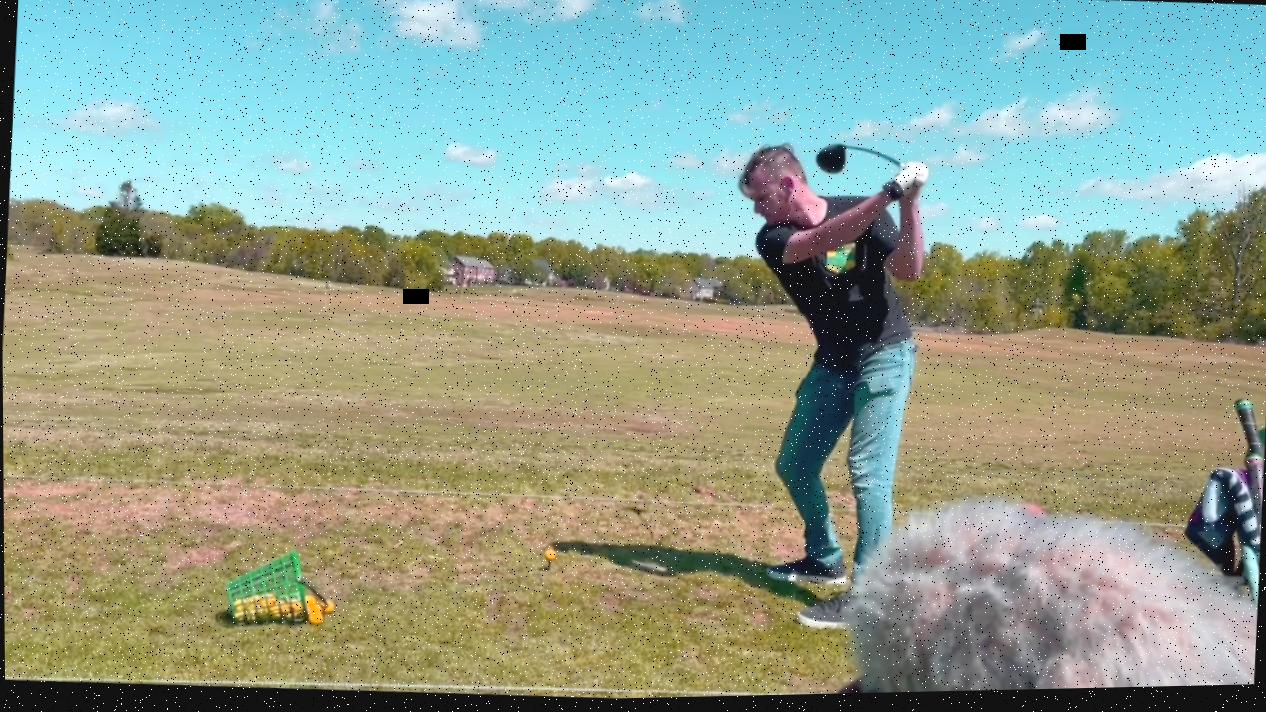ClubHead: (809, 141, 858, 184)
GolfBall: (540, 548, 558, 567)
